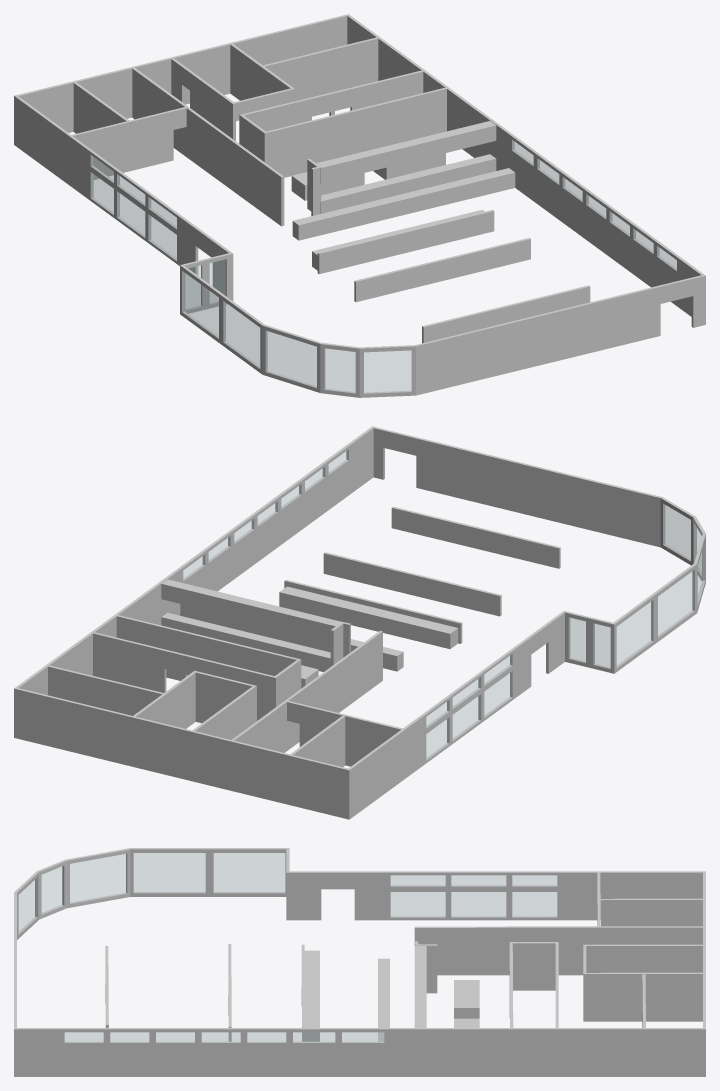
Rendered from KFCBulding_BuildingUnfurnished.fbx.
3 renders of one model, top to bottom at view 1: azimuth 30°, elevation 25°; view 2: azimuth 150°, elevation 25°; view 3: azimuth 270°, elevation 25°, orthographic. The views are drawn at different scales.
Parts seen in each view (by area): view 1: Walls, Counters, Windows; view 2: Walls, Counters, Windows; view 3: Walls, Windows, Counters.
Part boxes in pixels (x1=…): Walls: x1=14, y1=14, x2=705, y2=397; Counters: x1=291, y1=121, x2=515, y2=270; Windows: x1=91, y1=140, x2=676, y2=393; Walls: x1=14, y1=426, x2=705, y2=819; Counters: x1=161, y1=579, x2=458, y2=688; Windows: x1=183, y1=449, x2=704, y2=759; Walls: x1=14, y1=848, x2=705, y2=1076; Windows: x1=19, y1=853, x2=556, y2=1042; Counters: x1=304, y1=945, x2=479, y2=1041.
Size of what is drawn, in the model's own units: 2609 by 319 by 4208.
